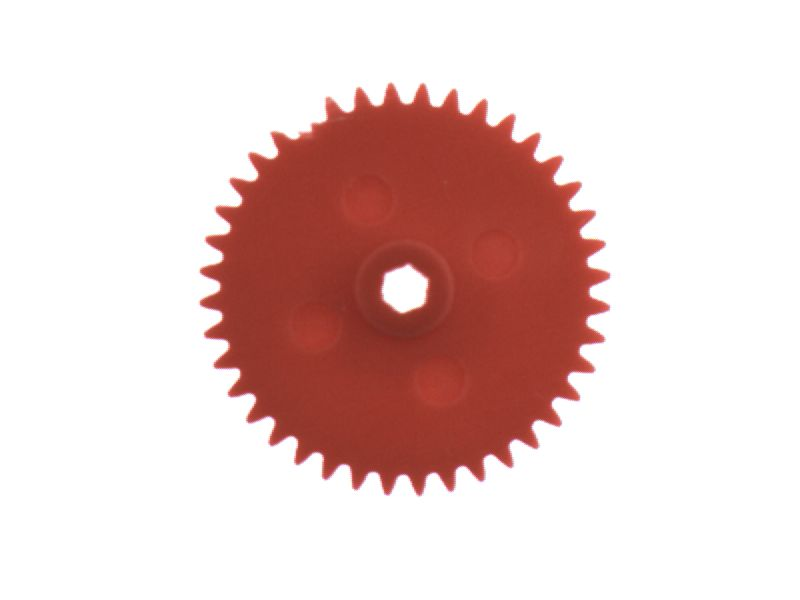defect_lack: (281, 104, 336, 159)
